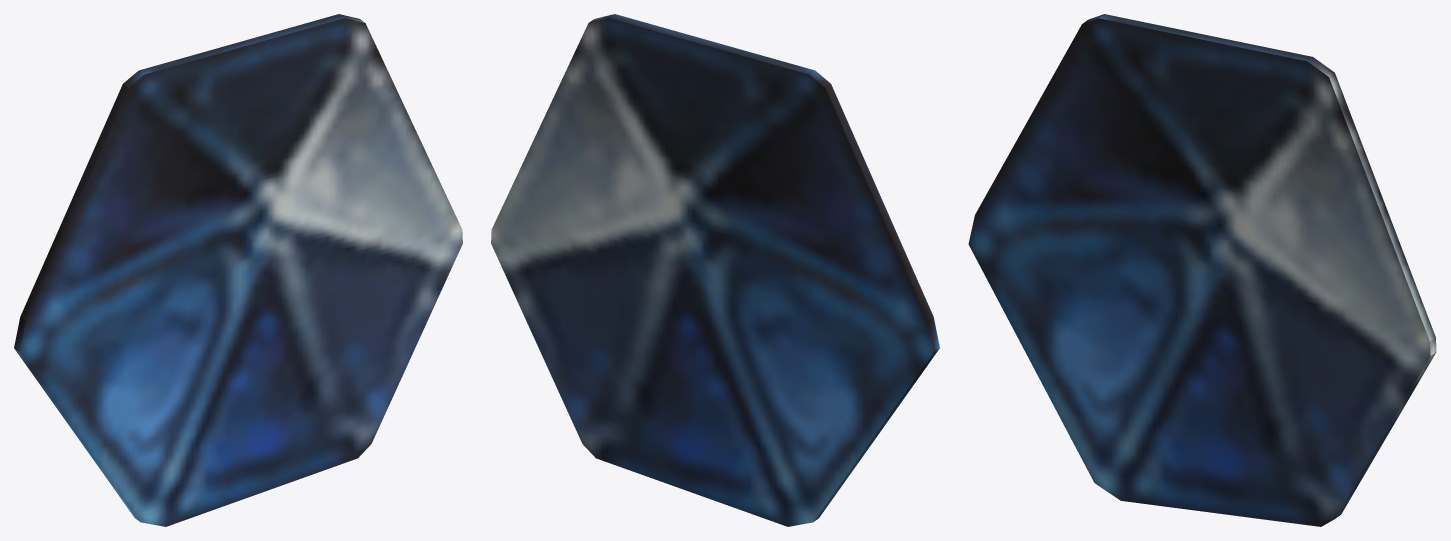
File: Mana.glb
3 renders of one model, left to right at view 1: azimuth 30°, elevation 25°; view 2: azimuth 150°, elevation 25°; view 3: azimuth 330°, elevation 25°, orthographic. The views are drawn at different scales.
Visible parts, largest first — view 1: Circle.001; view 2: Circle.001; view 3: Circle.001.
Part boxes in pixels (x1,y1,x2,y2): Circle.001: (14, 14, 462, 526); Circle.001: (491, 14, 939, 526); Circle.001: (968, 14, 1436, 526).
Bounding box in the file's own units: 2.24 × 2.25 × 0.05.
1 material, 1 textured.
